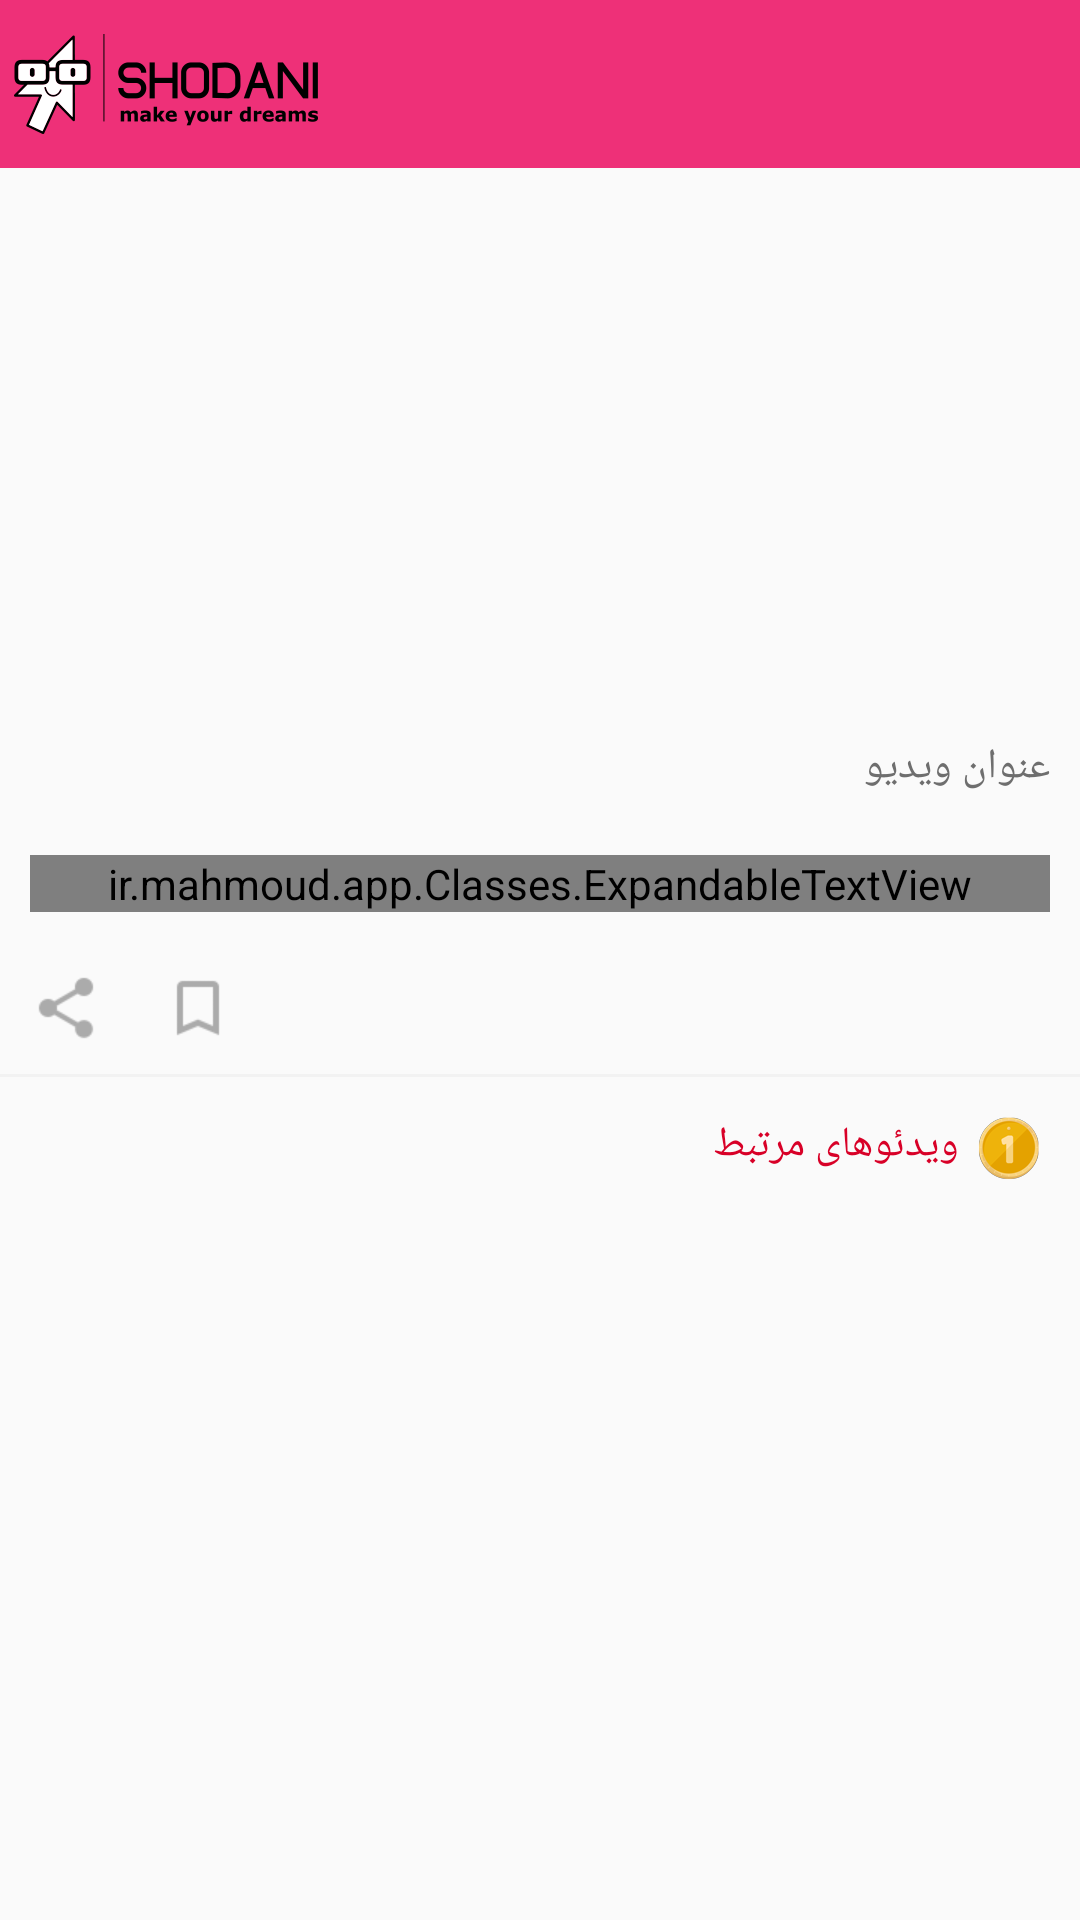

Icons on this 1080px x 1920px Android screen, each with its box as rect(x1, y1, x2, y2):
share: rect(39, 978, 93, 1038)
unmark: rect(177, 981, 219, 1035)
